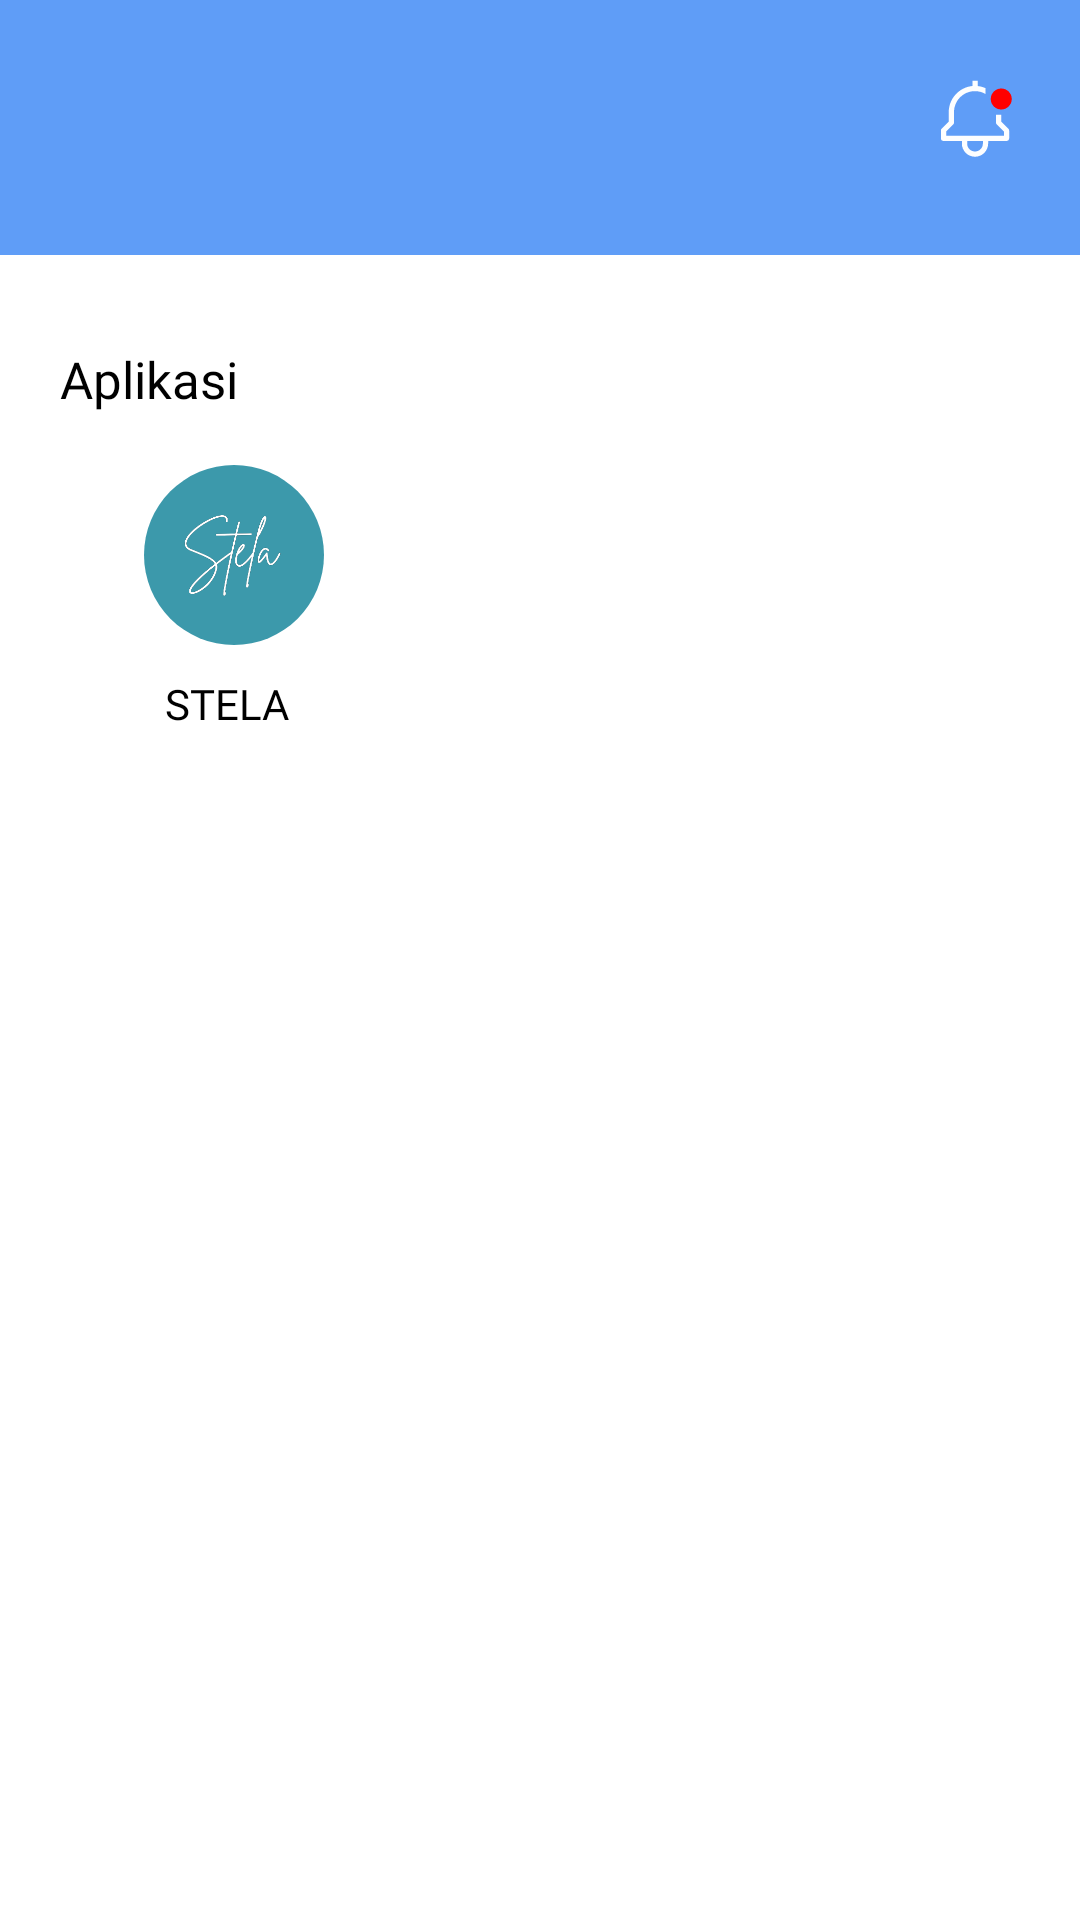

Screen size 1080px x 1920px. Icon name, then its box in pixels as (x1, y1, x2, y2):
notification: (941, 80, 1012, 157)
